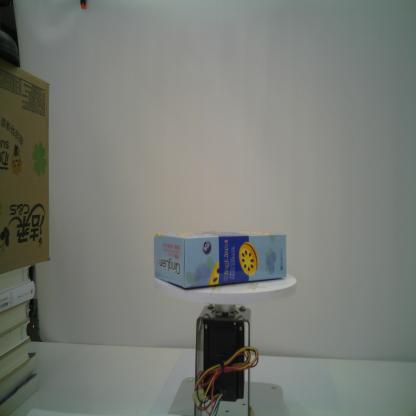Dessert: (153, 229, 287, 290)
